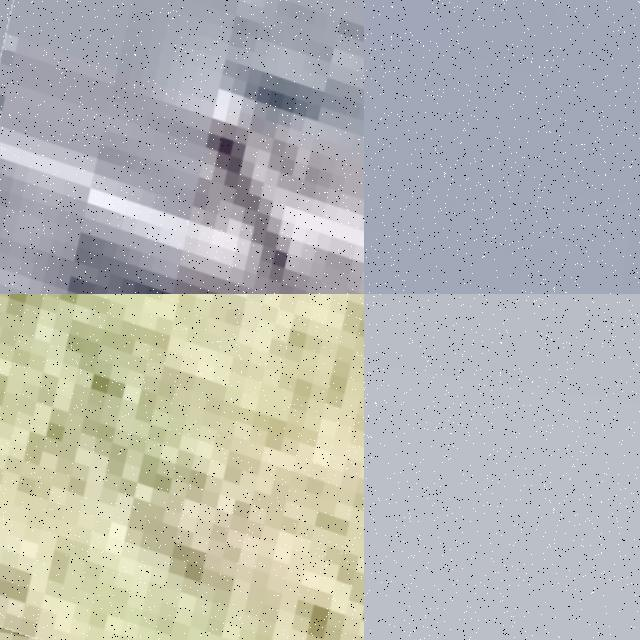0: (0, 0, 364, 294)
drone: (0, 294, 364, 640)
